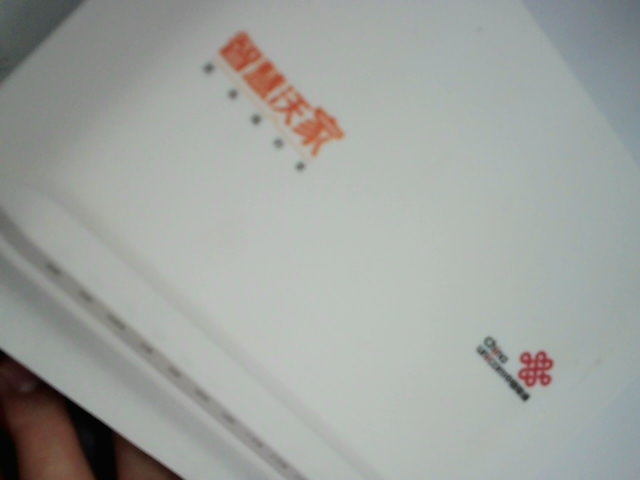AC_ChinaUnicom: (469, 333, 564, 407)
